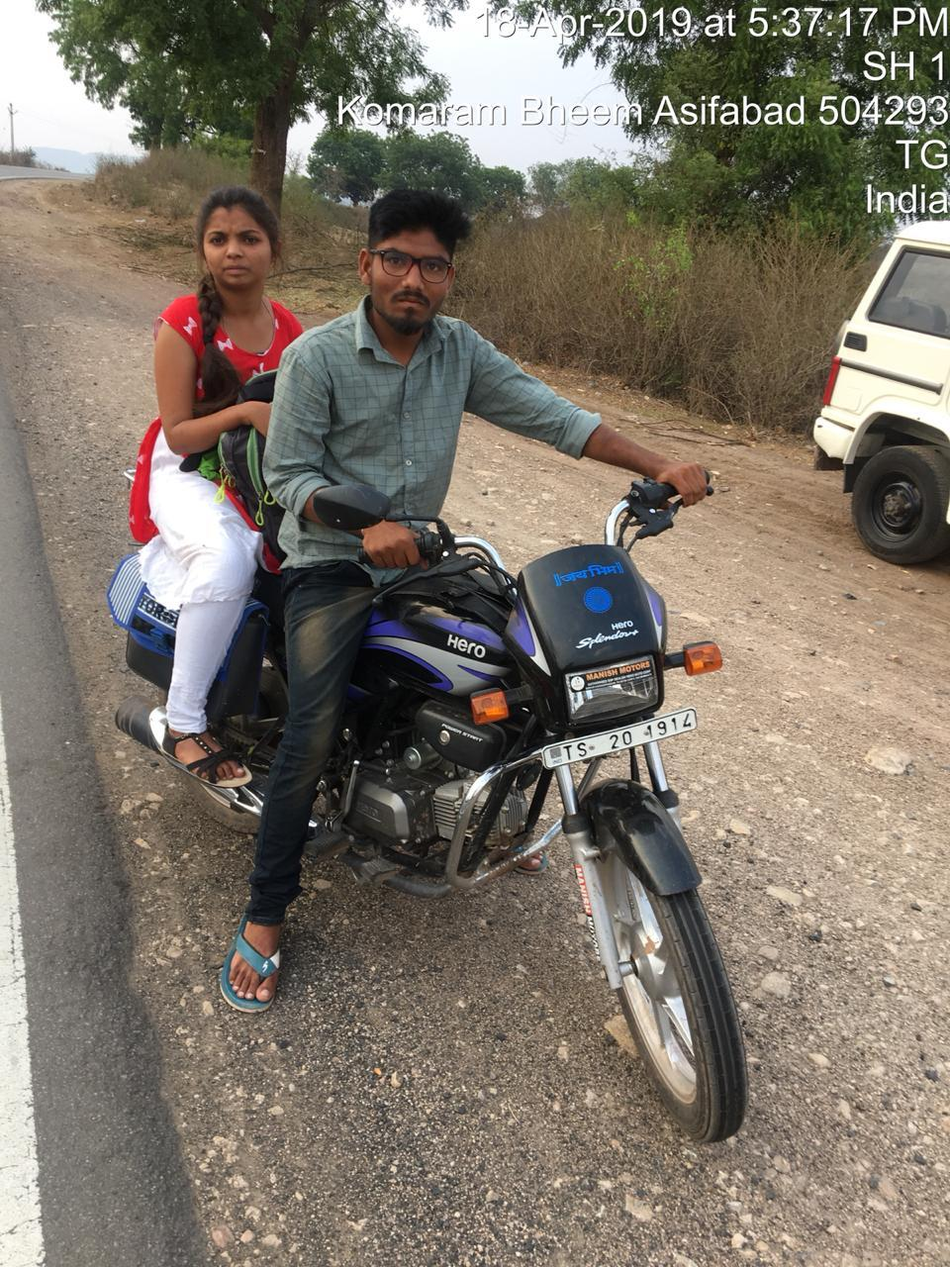plate: (517, 695, 717, 792)
